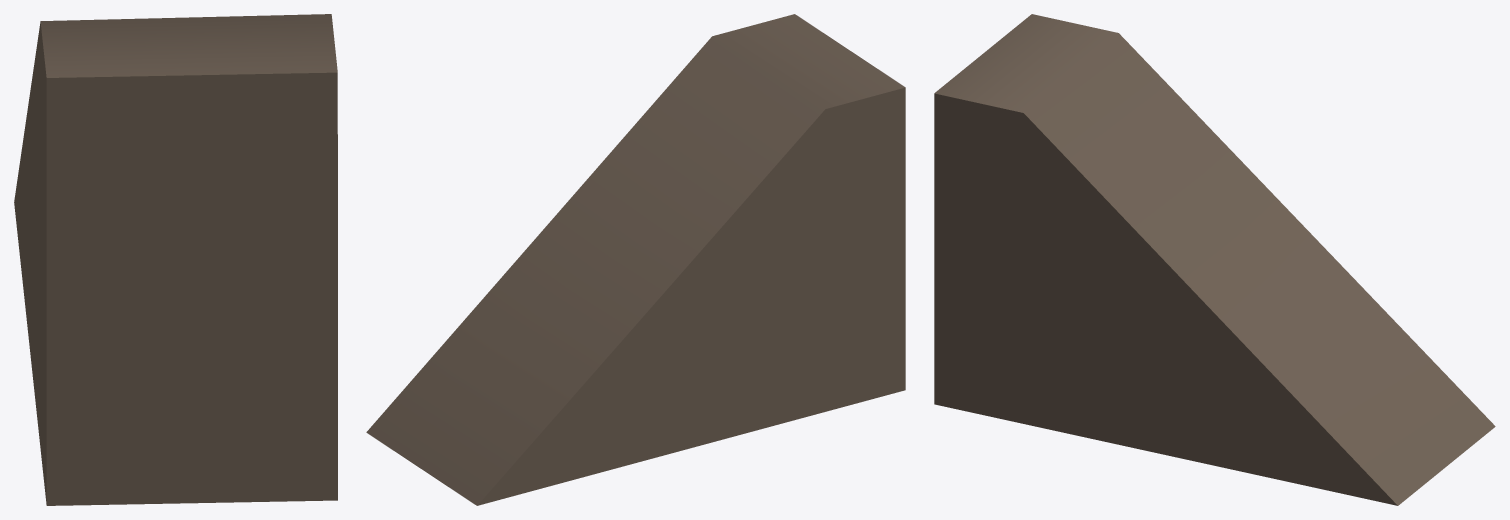
Rendered from hr_stairs1.glb.
3 views of the same model, side by side, from view 1: azimuth 30°, elevation 25°; view 2: azimuth 150°, elevation 25°; view 3: azimuth 270°, elevation 25° (orthographic). The views are drawn at different scales.
Parts seen in each view (by area): view 1: hr_stairs1-col; view 2: hr_stairs1-col; view 3: hr_stairs1-col.
Boxes of the visible parts, x1,y1,x2,y2 form: hr_stairs1-col: (14, 14, 337, 505); hr_stairs1-col: (366, 14, 905, 505); hr_stairs1-col: (934, 14, 1495, 505).
Size of the model in its own units: 12.65 by 10.13 by 16.58.
Materials: 1 (1 with a texture image).
